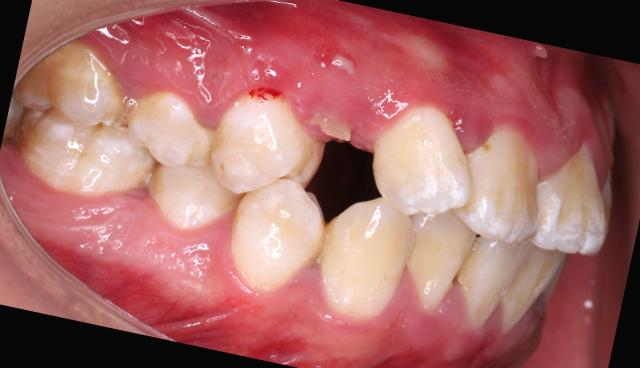molar class III 1/4: (0, 28, 173, 210)
